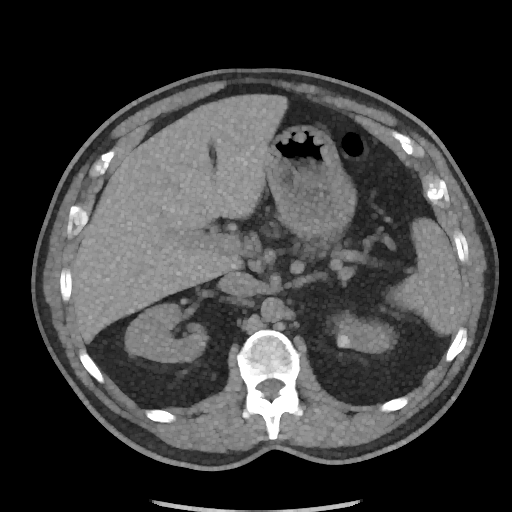Lesion: (333, 332, 353, 353)
